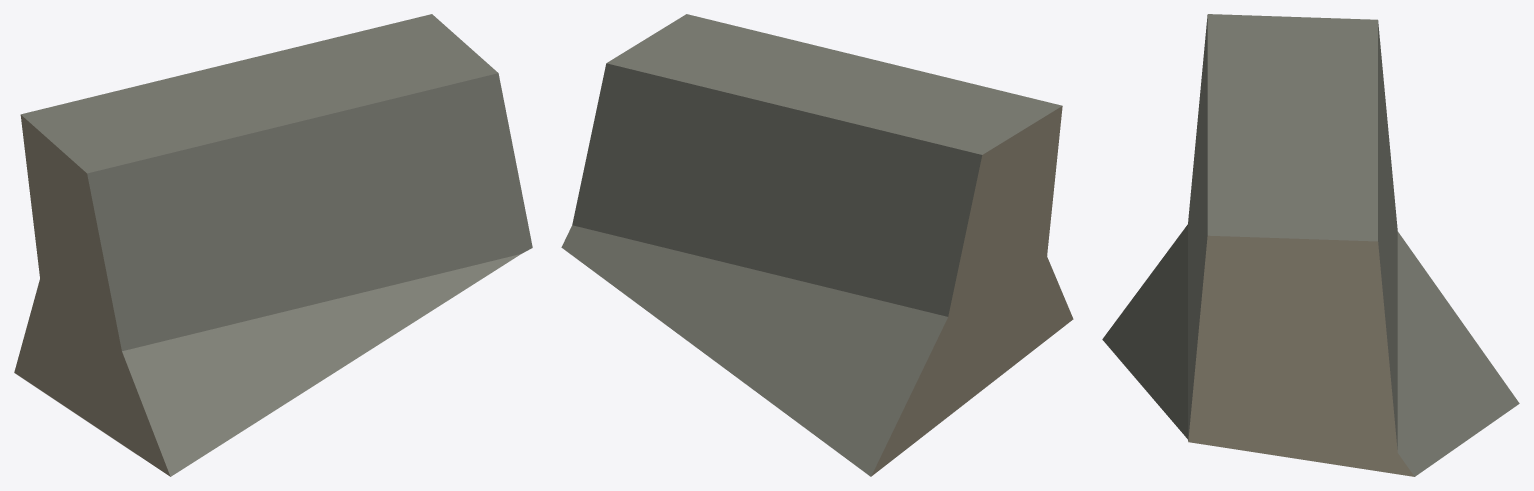
3 renders of one model, left to right at view 1: azimuth 30°, elevation 25°; view 2: azimuth 150°, elevation 25°; view 3: azimuth 270°, elevation 25°, orthographic. The views are drawn at different scales.
Visible parts, largest first — view 1: concreto_quebra_4; view 2: concreto_quebra_4; view 3: concreto_quebra_4.
Part boxes in pixels (<box>): concreto_quebra_4: <box>14,14,532,476</box>; concreto_quebra_4: <box>561,14,1073,476</box>; concreto_quebra_4: <box>1102,14,1519,476</box>.
Size of the model in its own units: 0.884 by 0.5935 by 0.6367.
Materials: 1 (1 with a texture image).
